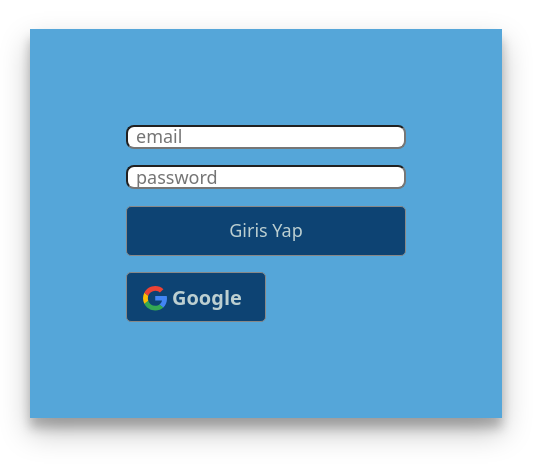
Test: If Login return 403, show error messaage
Run test
Type "ugur@gmail.com" into the field with placeholder "email". click: (266, 136)
box: [126,124,406,148]
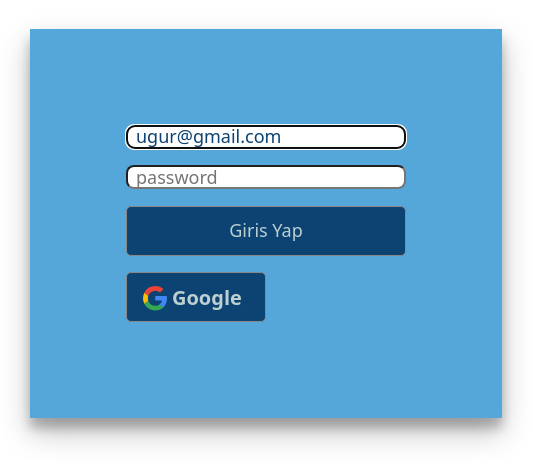
Type "1234" into the password field with placeholder "password". click: (266, 177)
box: [126,165,406,189]
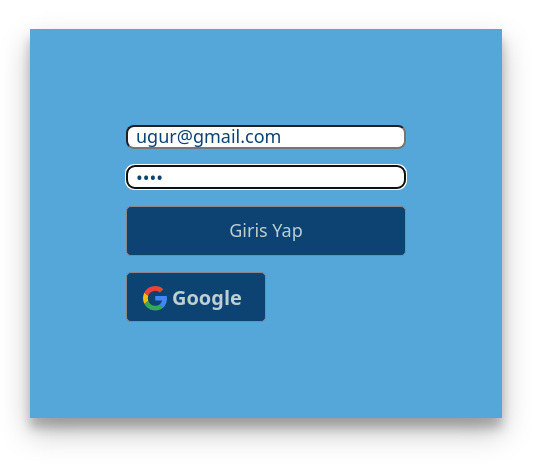
Click the button "Giris Yap". click: (266, 230)
box: [126,206,406,256]
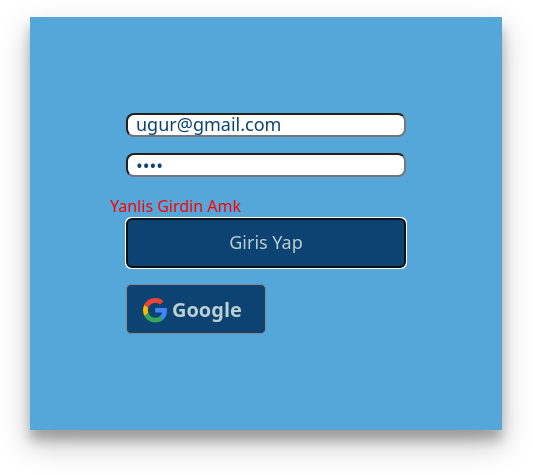
Expected: the text "Yanlis Girdin Amk" is shown, [110,194,241,216]
